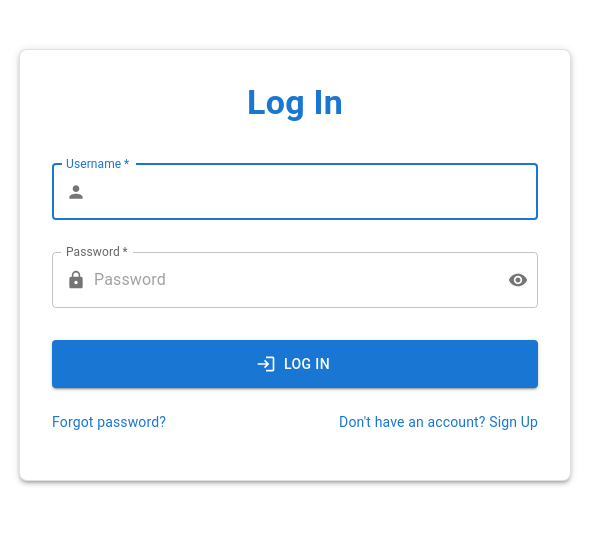
Scenario: LoginPage › handles failed login
The width and height of the screenshot is (591, 535).
In the field labelled "Username *": (316, 192) 94,164 -> 538,220, type "baduser"
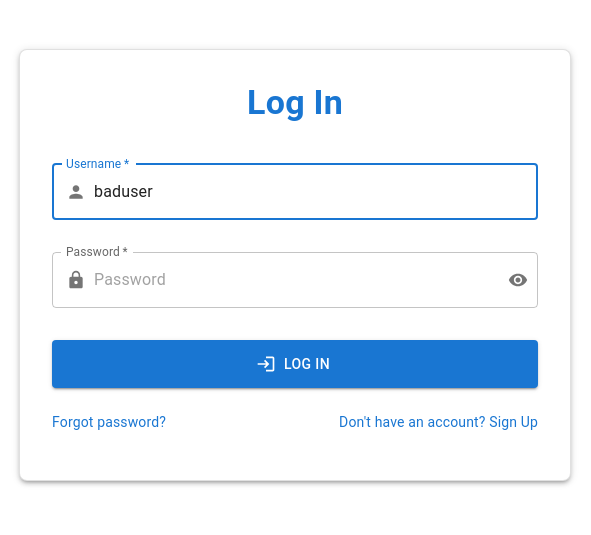
In the password field with placeholder "Password": (293, 280) 94,252 -> 492,308, type "badpassword"
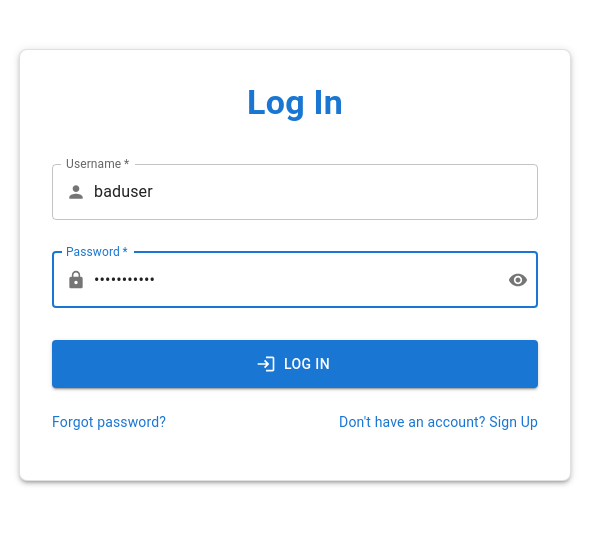
Click the button "Log In": (295, 364) 52,340 -> 538,388
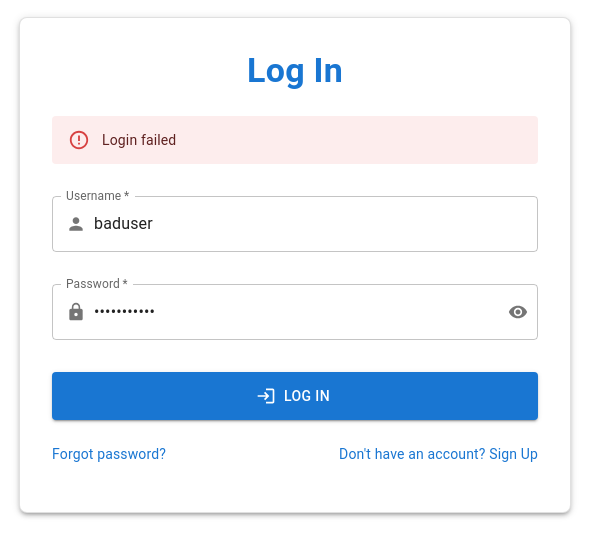
Check: the button "Log In" is shown, box 52,372 -> 538,420
Check: the text "Login failed" is shown, box 102,132 -> 176,148
